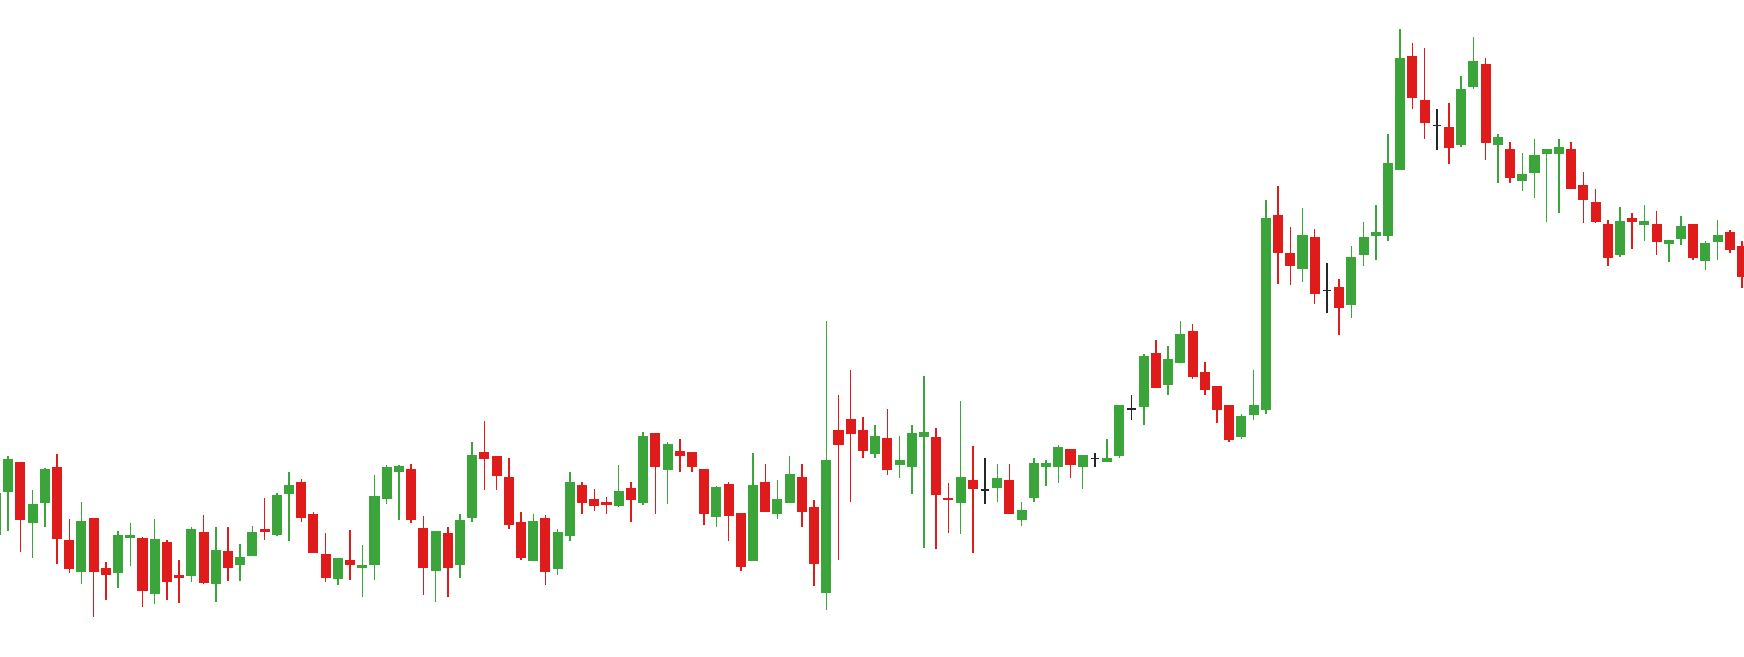buy: (1128, 364, 1247, 449), (357, 498, 442, 600)
